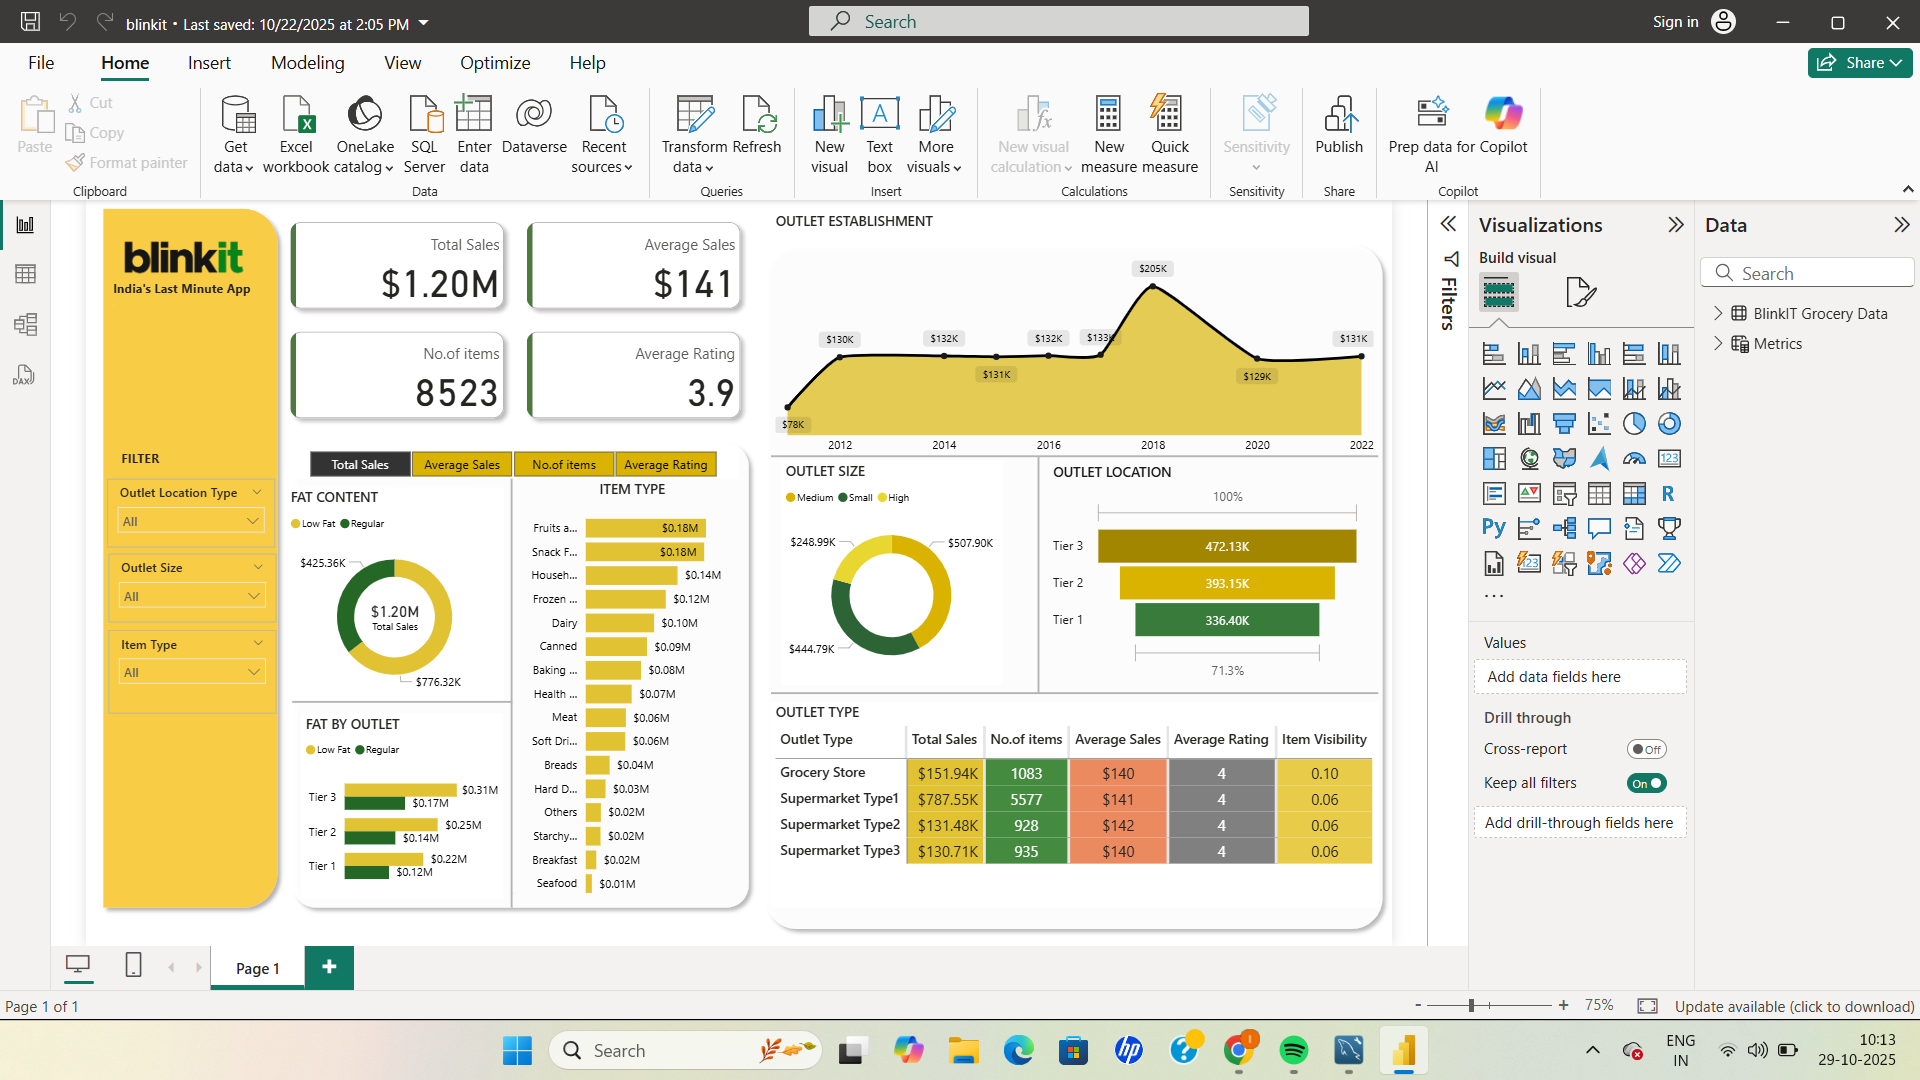

The page's visual inventory and layout, read from the dashboard file:
{"tool":"powerbi","page":{"name":"Page 1","canvas":[1400,800],"ordinal":0},"visuals":[{"type":"shape","box":[9.4,0,205.1,768.1],"z":0},{"type":"textbox","box":[261.4,737.3,205.1,12.1],"z":1000},{"type":"image","box":[24.1,12.1,158.2,107.2],"z":2000},{"type":"textbox","box":[24.1,80.4,178.3,93.8],"z":3000},{"type":"cardVisual","fields":{"Data":["BlinkIT Grocery Data.Total Sales","BlinkIT Grocery Data.Average Sales","BlinkIT Grocery Data.No.of items","BlinkIT Grocery Data.Average Rating"]},"box":[202.4,6.7,517.4,245.3],"z":4000},{"type":"shape","box":[213.1,252,506.7,516.1],"z":5000},{"type":"donutChart","title":"FAT CONTENT","fields":{"Y":["BlinkIT Grocery Data.Total Sales"],"Category":["BlinkIT Grocery Data.Item Fat Content"]},"box":[214.5,308.3,233.2,230.6],"z":6000},{"type":"slicer","fields":{"Values":["Metrics.Metrics"]},"box":[214.5,262.7,485.3,36.2],"z":7000},{"type":"cardVisual","fields":{"Data":["BlinkIT Grocery Data.Total Sales"]},"box":[285.5,414.2,92.5,55],"z":8000},{"type":"clusteredBarChart","title":"FAT BY OUTLET ","fields":{"Y":["BlinkIT Grocery Data.Total Sales"],"Category":["BlinkIT Grocery Data.Outlet Location Type"],"Series":["BlinkIT Grocery Data.Item Fat Content"]},"box":[230.6,550.9,217.2,198.4],"z":9000},{"type":"shape","box":[221.2,469.2,235.9,138.1],"z":10000},{"type":"shape","box":[383.4,298.9,146.1,459.8],"z":11000},{"type":"barChart","title":"ITEM TYPE","fields":{"Y":["BlinkIT Grocery Data.Total Sales"],"Category":["BlinkIT Grocery Data.Item Type"]},"box":[461.1,298.9,249.3,459.8],"z":12000},{"type":"shape","box":[719.8,38.9,679.6,752],"z":13000},{"type":"lineChart","title":"OUTLET ESTABLISHMENT","fields":{"Category":["BlinkIT Grocery Data.Outlet Establishment Year"],"Y":["BlinkIT Grocery Data.Total Sales"]},"box":[734.6,12.1,651.5,269.4],"z":14000},{"type":"shape","box":[734.6,209.1,651.5,131.4],"z":15000},{"type":"donutChart","title":"OUTLET SIZE","fields":{"Y":["BlinkIT Grocery Data.Total Sales"],"Category":["BlinkIT Grocery Data.Outlet Size"]},"box":[745.3,280.2,237.3,239.9],"z":16000},{"type":"funnel","title":" OUTLET LOCATION","fields":{"Y":["BlinkIT Grocery Data.Sales"],"Category":["BlinkIT Grocery Data.Outlet Location Type"]},"box":[1032.2,281.5,340.5,238.6],"z":17000},{"type":"shape","box":[982.6,274.8,77.7,254.7],"z":18000},{"type":"shape","box":[734.6,459.8,651.5,138.1],"z":19000},{"type":"pivotTable","title":"OUTLET TYPE","fields":{"Values":["BlinkIT Grocery Data.Total Sales","BlinkIT Grocery Data.No.of items","BlinkIT Grocery Data.Average Sales","BlinkIT Grocery Data.Average Rating","BlinkIT Grocery Data.Item Visibility"],"Rows":["BlinkIT Grocery Data.Outlet Type"]},"box":[734.6,538.9,651.5,219.8],"z":20000},{"type":"slicer","fields":{"Values":["BlinkIT Grocery Data.Outlet Location Type"]},"box":[22.8,298.9,179.6,73.7],"z":21000},{"type":"slicer","fields":{"Values":["BlinkIT Grocery Data.Outlet Size"]},"box":[24.1,379.4,179.6,73.7],"z":22000},{"type":"slicer","fields":{"Values":["BlinkIT Grocery Data.Item Type"]},"box":[24.1,461.1,179.6,89.8],"z":23000},{"type":"textbox","box":[24.1,262.7,68.4,36.2],"z":24000}]}

Visuals, with their boxes on the page's 1400x800 design canvas (x1, y1, x2, y2). These are canvas units, not pixel positions in the 1920x1080 screenshot, which may show the page scaled, cropped or inside an application window:
shape: 9 0 214 768
textbox: 261 737 466 749
image: 24 12 182 119
textbox: 24 80 202 174
cardVisual - BlinkIT Grocery Data.Total Sales x BlinkIT Grocery Data.Average Sales: 202 7 720 252
shape: 213 252 720 768
"FAT CONTENT" donutChart: 214 308 448 539
slicer - Metrics.Metrics: 214 263 700 299
cardVisual - BlinkIT Grocery Data.Total Sales: 286 414 378 469
"FAT BY OUTLET " clusteredBarChart: 231 551 448 749
shape: 221 469 457 607
shape: 383 299 530 759
"ITEM TYPE" barChart: 461 299 710 759
shape: 720 39 1399 791
"OUTLET ESTABLISHMENT" lineChart: 735 12 1386 282
shape: 735 209 1386 340
"OUTLET SIZE" donutChart: 745 280 983 520
" OUTLET LOCATION" funnel: 1032 282 1373 520
shape: 983 275 1060 530
shape: 735 460 1386 598
"OUTLET TYPE" pivotTable: 735 539 1386 759
slicer - BlinkIT Grocery Data.Outlet Location Type: 23 299 202 373
slicer - BlinkIT Grocery Data.Outlet Size: 24 379 204 453
slicer - BlinkIT Grocery Data.Item Type: 24 461 204 551
textbox: 24 263 92 299
